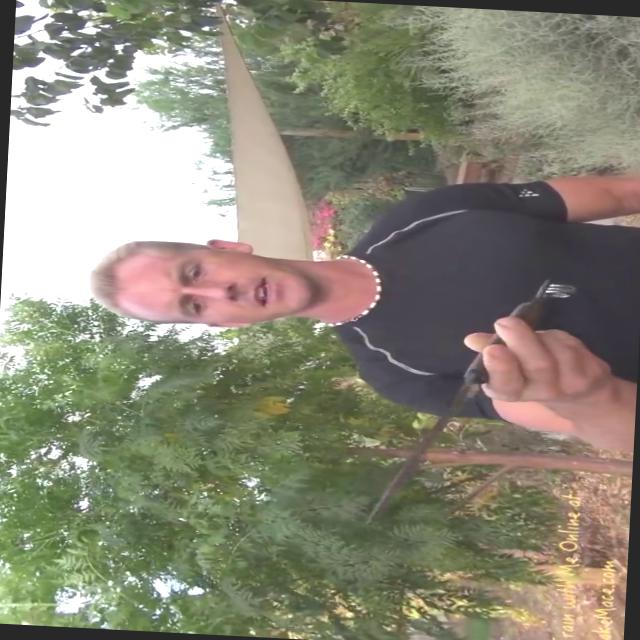knife: (367, 258, 588, 530)
